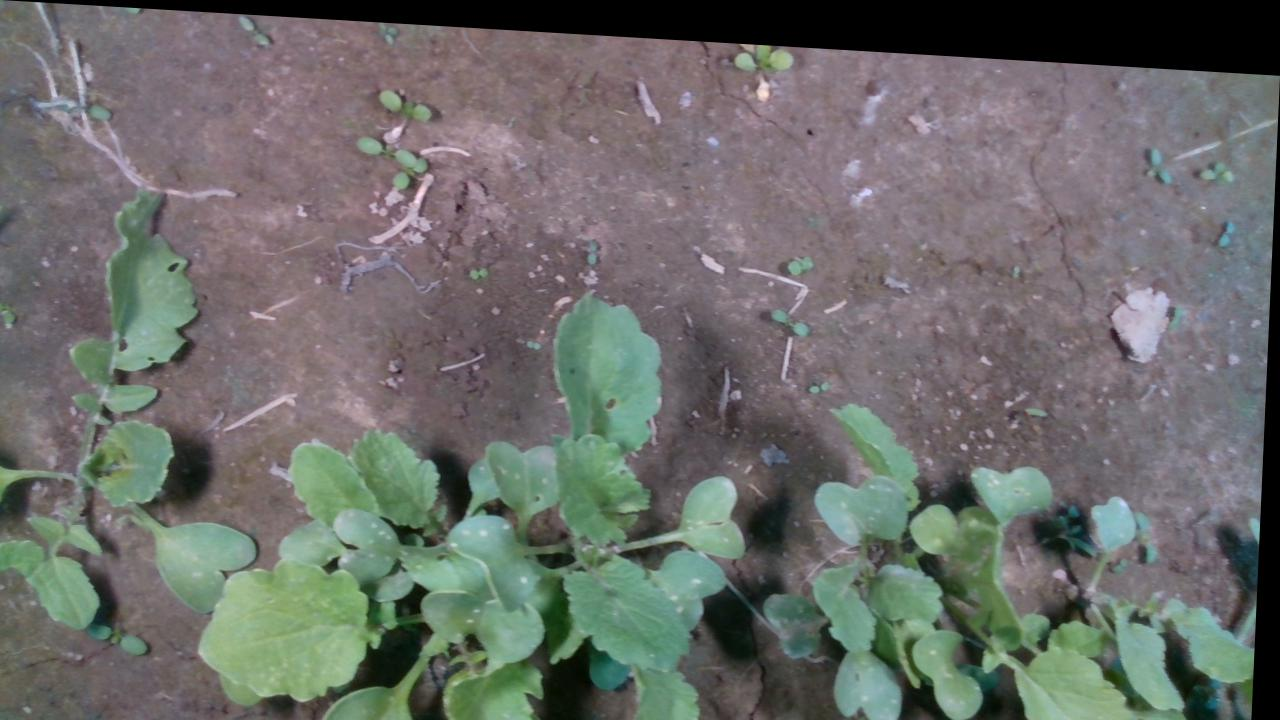weed: (377, 83, 435, 116), (771, 295, 813, 328), (1144, 131, 1175, 173), (235, 11, 271, 42), (1196, 141, 1236, 168), (786, 243, 816, 265), (1218, 201, 1236, 233), (585, 229, 600, 258), (809, 368, 832, 383), (469, 259, 490, 274)
